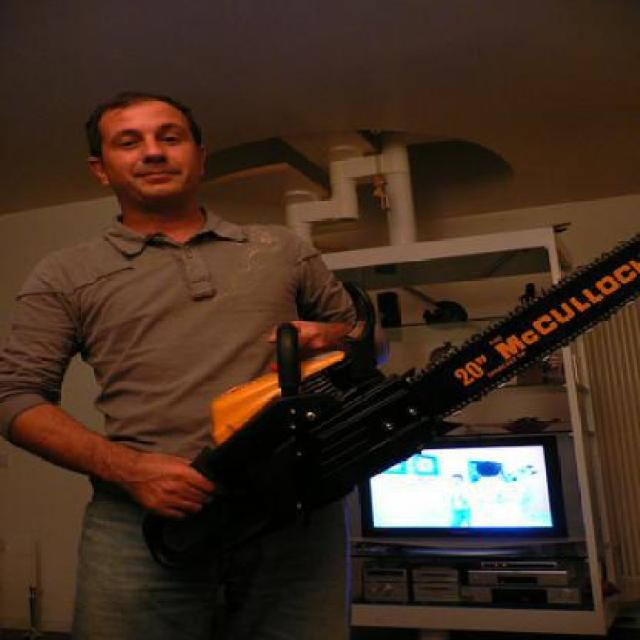Chainsaw: (145, 235, 637, 573)
